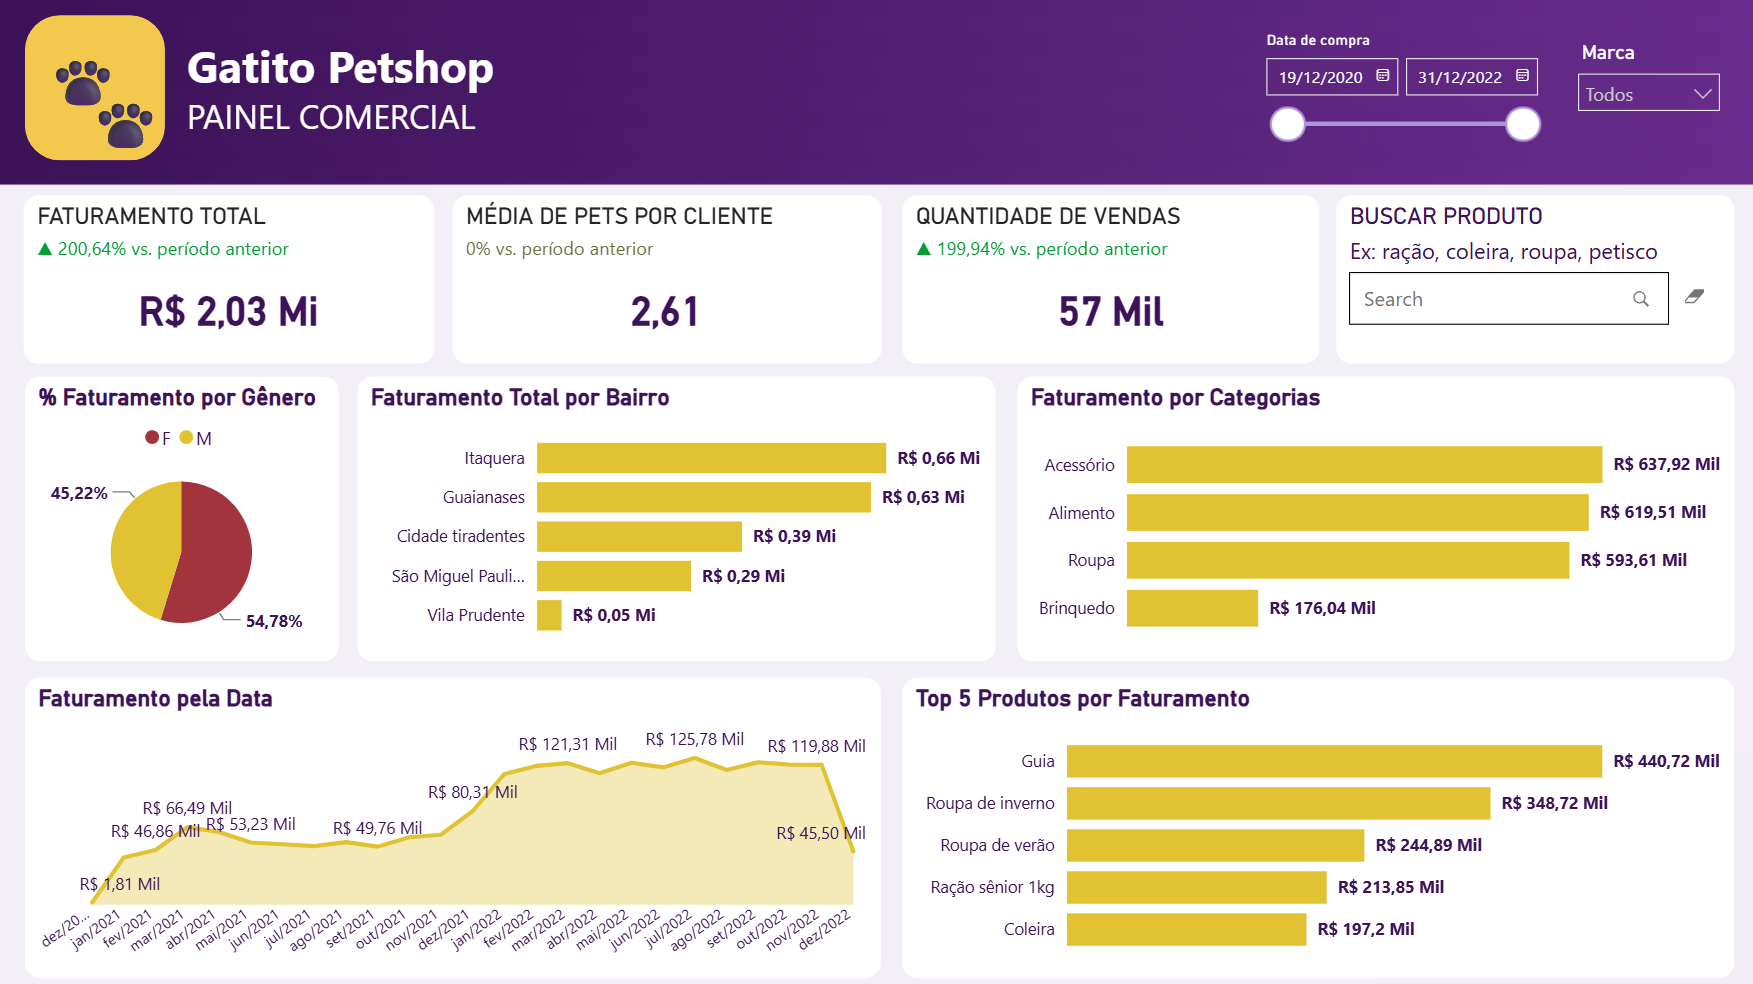

Layout of this report page (visuals, bound fields, positions):
{"tool":"powerbi","page":{"name":"Redesenhado","canvas":[1280,720],"ordinal":1},"visuals":[{"type":"shape","box":[22.1,12.3,101.8,105.5],"z":0},{"type":"textbox","box":[134.2,21.6,476.1,85.1],"z":1000},{"type":"slicer","fields":{"Values":["Produtos.Marca"]},"box":[1141.1,25.8,123.9,67.5],"z":2000},{"type":"slicer","fields":{"Values":["Vendas.Data de compra"]},"box":[911.7,18.4,220.7,92.3],"z":3000},{"type":"card","title":"MÉDIA DE PETS POR CLIENTE","fields":{"Values":["Medidas.Media Pets"]},"box":[332.5,142.3,311.7,122.7],"z":4000},{"type":"card","title":"FATURAMENTO TOTAL","fields":{"Values":["Sum(Vendas.faturamento)"]},"box":[21.2,142.7,298.7,122.6],"z":5000},{"type":"card","title":"QUANTIDADE DE VENDAS","fields":{"Values":["Sum(Vendas.Quantidade)"]},"box":[660.1,142.3,303.1,122.7],"z":6000},{"type":"textFilter25A4896A83E0487089E2B90C9AE57C8A","title":"BUSCAR PRODUTO","fields":{"field":["Produtos.Nome produto"]},"box":[975.5,142.3,289.6,122.7],"z":7000},{"type":"areaChart","title":"Faturamento pela Data","fields":{"Category":["Calendario.AnoMes"],"Y":["Vendas.faturamento_total"]},"box":[22.1,493.3,622.1,218.4],"z":8000},{"type":"clusteredBarChart","title":"Top 5 Produtos por Faturamento","fields":{"Category":["Produtos.Nome produto"],"Y":["Vendas.faturamento_total"]},"box":[660.1,493.3,604.9,218.4],"z":9000},{"type":"clusteredBarChart","title":"Faturamento Total por Bairro","fields":{"Category":["Clientes.Bairro"],"Y":["Vendas.faturamento_total"]},"box":[263.8,274.8,463.8,207.4],"z":10000},{"type":"pieChart","title":"% Faturamento por Gênero","fields":{"Category":["Clientes.Gênero"],"Y":["Vendas.faturamento_total"]},"box":[22.1,274.8,228.2,207.4],"z":11000},{"type":"clusteredBarChart","title":"Faturamento por Categorias","fields":{"Category":["Produtos.Categoria"],"Y":["Vendas.faturamento_total"]},"box":[743.6,274.8,521.5,207.4],"z":12000}]}

Visuals, with their boxes in screenshot pixels (x1, y1, x2, y2), scaled from the page's 1280x720 canvas onto the 1753x984 screenshot:
shape: Rect(30, 17, 170, 161)
textbox: Rect(184, 30, 836, 146)
slicer - Produtos.Marca: Rect(1563, 35, 1732, 128)
slicer - Vendas.Data de compra: Rect(1249, 25, 1551, 151)
"MÉDIA DE PETS POR CLIENTE" card: Rect(455, 194, 882, 362)
"FATURAMENTO TOTAL" card: Rect(29, 195, 438, 363)
"QUANTIDADE DE VENDAS" card: Rect(904, 194, 1319, 362)
"BUSCAR PRODUTO" textFilter25A4896A83E0487089E2B90C9AE57C8A: Rect(1336, 194, 1733, 362)
"Faturamento pela Data" areaChart: Rect(30, 674, 882, 973)
"Top 5 Produtos por Faturamento" clusteredBarChart: Rect(904, 674, 1732, 973)
"Faturamento Total por Bairro" clusteredBarChart: Rect(361, 376, 996, 659)
"% Faturamento por Gênero" pieChart: Rect(30, 376, 343, 659)
"Faturamento por Categorias" clusteredBarChart: Rect(1018, 376, 1733, 659)
